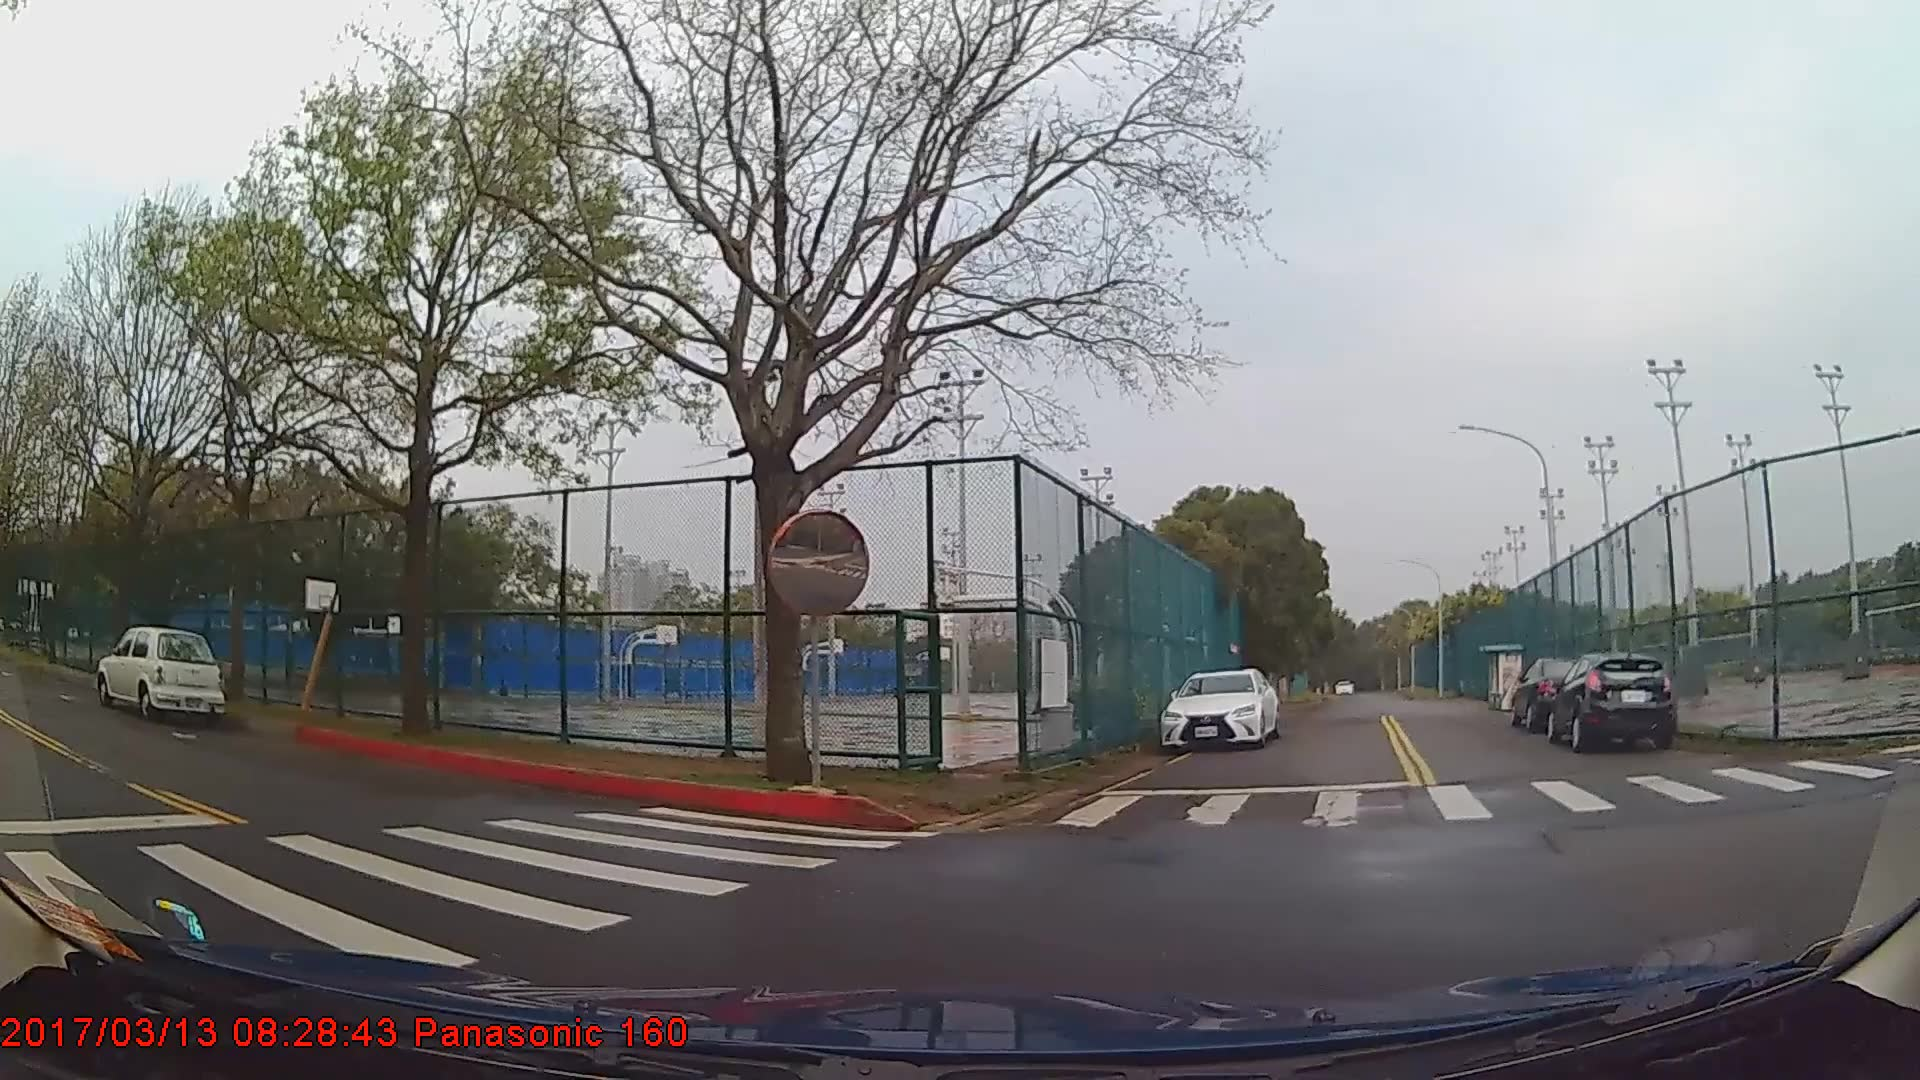vehicle: (94, 625, 231, 723), (1545, 651, 1673, 752), (1160, 665, 1280, 752), (1513, 655, 1600, 732)
